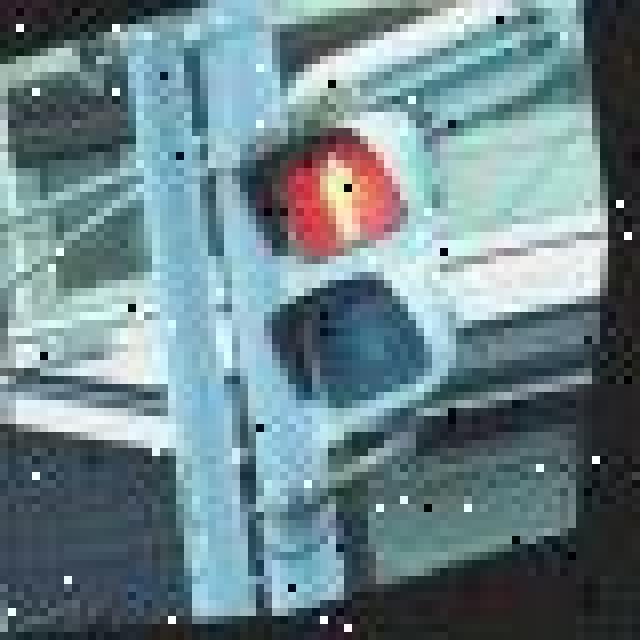redlight: (232, 96, 470, 426)
